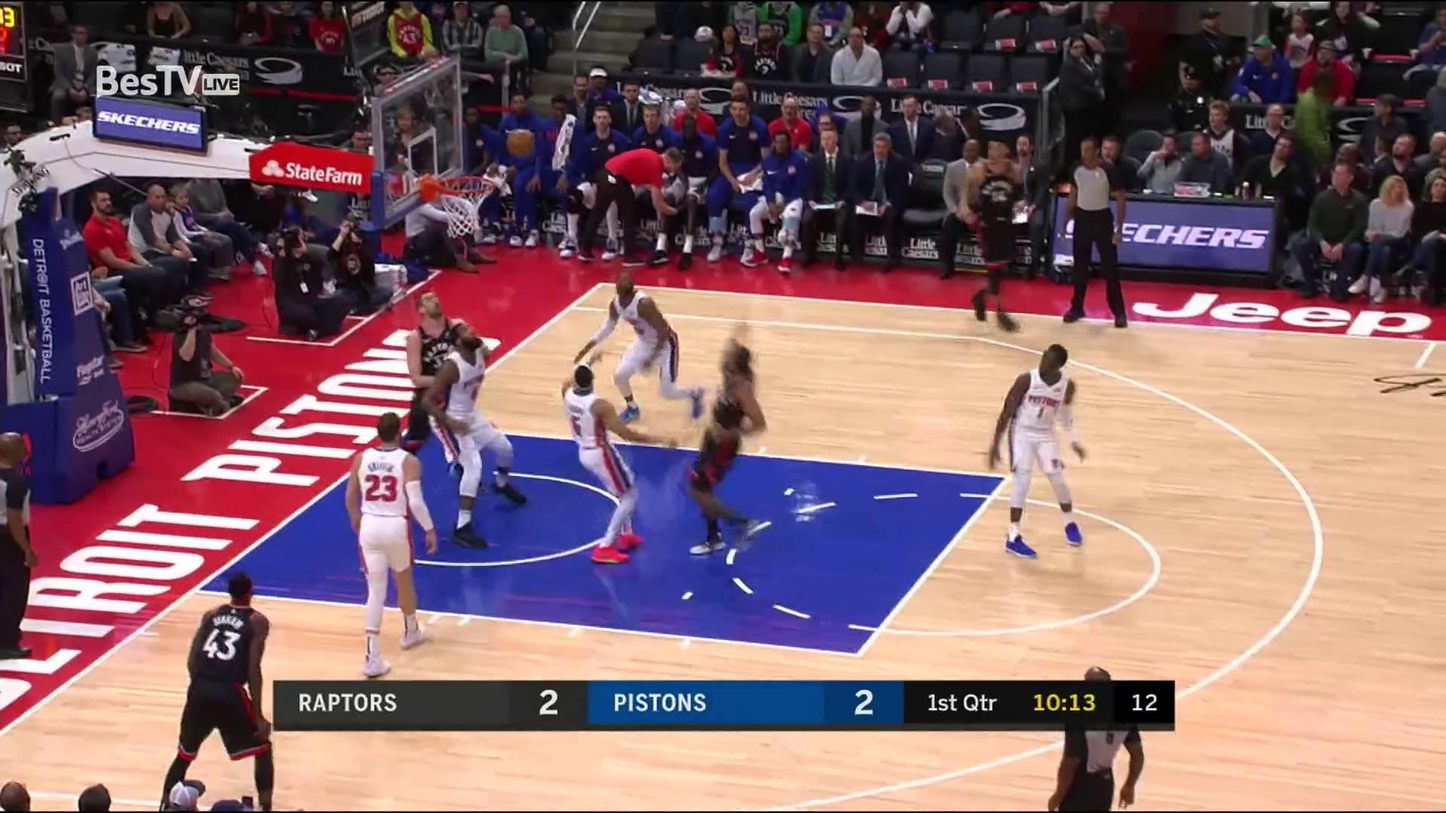basketball: (506, 128, 535, 156)
